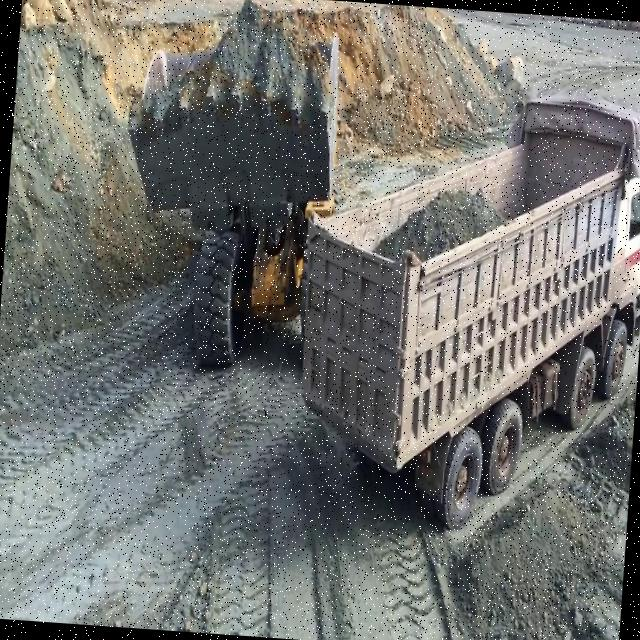Dump Truck: (275, 70, 640, 545)
Loader: (104, 0, 350, 382)
